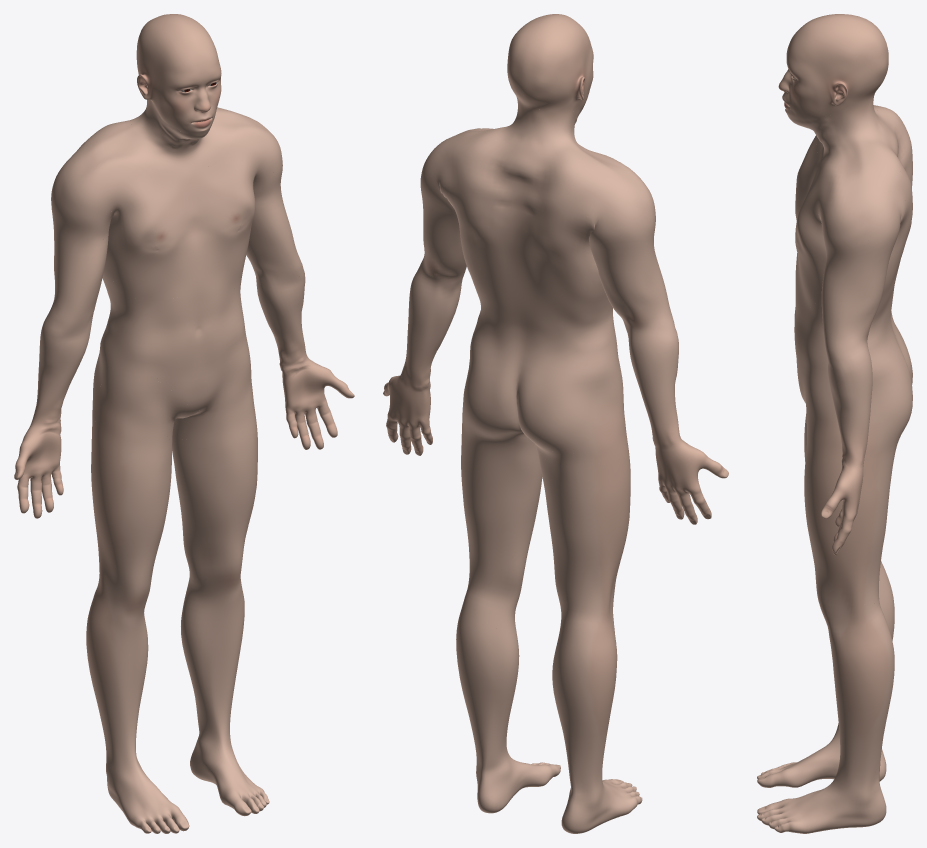
Rendered from male.ligero.glb.
3 renders of one model, left to right at view 1: azimuth 30°, elevation 25°; view 2: azimuth 150°, elevation 25°; view 3: azimuth 270°, elevation 25°, orthographic.
Visible parts, largest first — view 1: Skin_Chest, Skin_Thigh_R, Skin_Thigh_L, Skin_Abdomen, Skin_Leg_L, Skin_Leg_R, Skin_Shoulder_R, Skin_Arm_R, Skin_Scalp, Skin_Forearm_R, Skin_Neck, Skin_Hand_L (+13 smaller); view 2: Skin_Back, Skin_Thigh_R, Skin_Thigh_L, Skin_Buttock_R, Skin_Leg_R, Skin_Leg_L, Skin_Scalp, Skin_Shoulder_R, Skin_Buttock_L, Skin_Lumbar, Skin_Arm_R, Skin_Neck (+13 smaller); view 3: Skin_Thigh_L, Skin_Leg_L, Skin_Shoulder_L, Skin_Scalp, Skin_Arm_L, Skin_Buttock_L, Skin_Foot_L, Skin_Chest, Skin_Forearm_L, Skin_Neck, Skin_Knee_L, Skin_Abdomen (+10 smaller).
Part boxes in pixels (left/top/right/bottom): Skin_Chest: left=99, top=153, right=267, bottom=311; Skin_Thigh_R: left=91, top=364, right=187, bottom=589; Skin_Thigh_L: left=172, top=338, right=257, bottom=567; Skin_Abdomen: left=106, top=240, right=247, bottom=416; Skin_Leg_L: left=181, top=591, right=244, bottom=762; Skin_Leg_R: left=86, top=613, right=148, bottom=783; Skin_Shoulder_R: left=51, top=121, right=154, bottom=215; Skin_Arm_R: left=51, top=201, right=110, bottom=304; Skin_Scalp: left=136, top=14, right=218, bottom=115; Skin_Forearm_R: left=29, top=325, right=90, bottom=432; Skin_Neck: left=125, top=100, right=224, bottom=182; Skin_Hand_L: left=282, top=360, right=354, bottom=449; Skin_Back: left=433, top=157, right=608, bottom=313; Skin_Thigh_R: left=539, top=364, right=630, bottom=608; Skin_Thigh_L: left=461, top=418, right=542, bottom=586; Skin_Buttock_R: left=517, top=340, right=613, bottom=455; Skin_Leg_R: left=552, top=640, right=617, bottom=806; Skin_Leg_L: left=456, top=618, right=520, bottom=783; Skin_Scalp: left=507, top=14, right=590, bottom=113; Skin_Shoulder_R: left=549, top=142, right=655, bottom=239; Skin_Buttock_L: left=462, top=319, right=523, bottom=438; Skin_Lumbar: left=475, top=286, right=609, bottom=350; Skin_Arm_R: left=598, top=215, right=668, bottom=316; Skin_Neck: left=484, top=101, right=582, bottom=175; Skin_Thigh_L: left=799, top=370, right=899, bottom=606; Skin_Leg_L: left=821, top=638, right=894, bottom=801; Skin_Shoulder_L: left=813, top=140, right=905, bottom=244; Skin_Scalp: left=789, top=14, right=888, bottom=117; Skin_Arm_L: left=821, top=231, right=897, bottom=328; Skin_Buttock_L: left=866, top=326, right=912, bottom=451; Skin_Foot_L: left=757, top=789, right=886, bottom=833; Skin_Chest: left=795, top=135, right=826, bottom=310; Skin_Forearm_L: left=827, top=358, right=872, bottom=470; Skin_Neck: left=789, top=93, right=897, bottom=181; Skin_Knee_L: left=817, top=596, right=891, bottom=652; Skin_Abdomen: left=794, top=253, right=829, bottom=388.
Bounding box in the file's own units: 0.7788 × 1.72 × 0.3078.
Materials: 9 (8 with a texture image).
